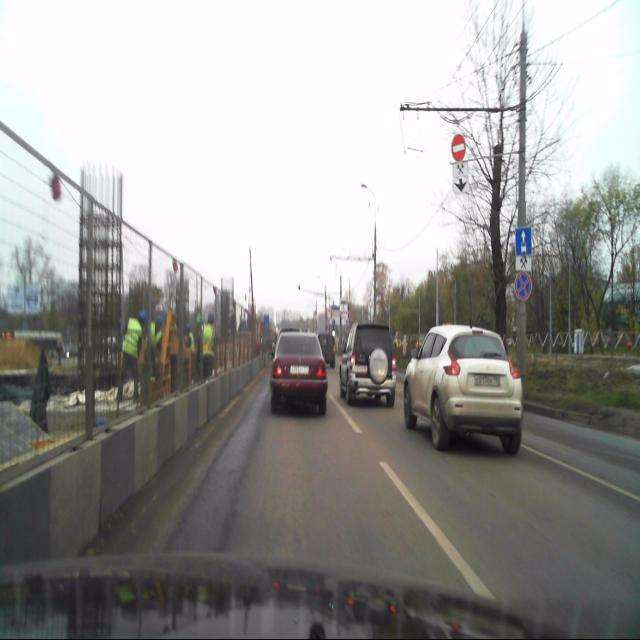road sign: (516, 228, 532, 255), (516, 256, 531, 270)
